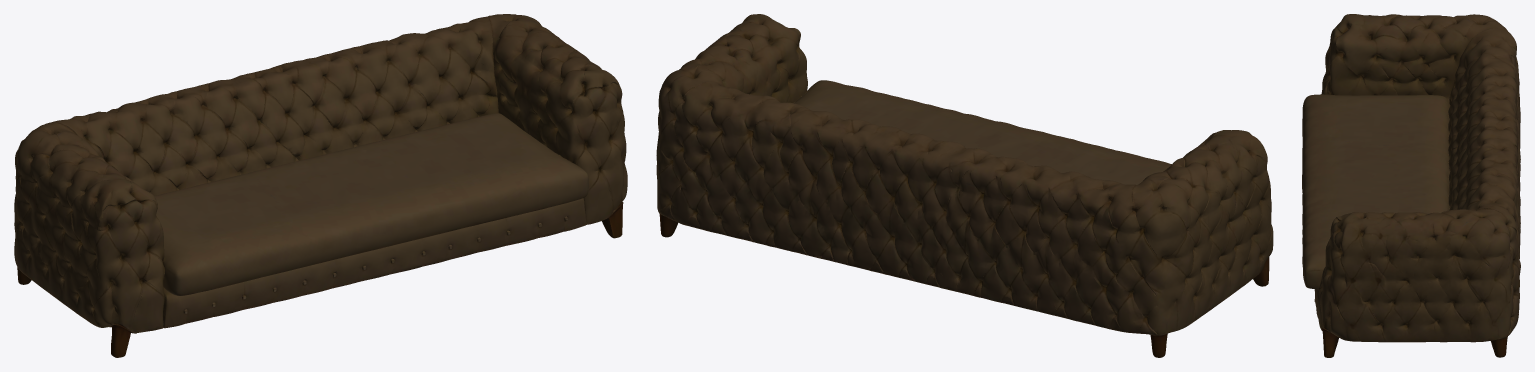
File: nova-chester-govde.glb
3 views of the same model, side by side, from view 1: azimuth 30°, elevation 25°; view 2: azimuth 150°, elevation 25°; view 3: azimuth 270°, elevation 25° (orthographic). The views are drawn at different scales.
Parts seen in each view (by area): view 1: GOVDE.001; view 2: GOVDE.001; view 3: GOVDE.001.
Part boxes in pixels (x1,y1,x2,y2): GOVDE.001: (14, 14, 627, 357); GOVDE.001: (656, 14, 1273, 357); GOVDE.001: (1302, 14, 1520, 357).
Size of the model in its own units: 2.4 by 0.6901 by 1.
Materials: 1 (1 with a texture image).
